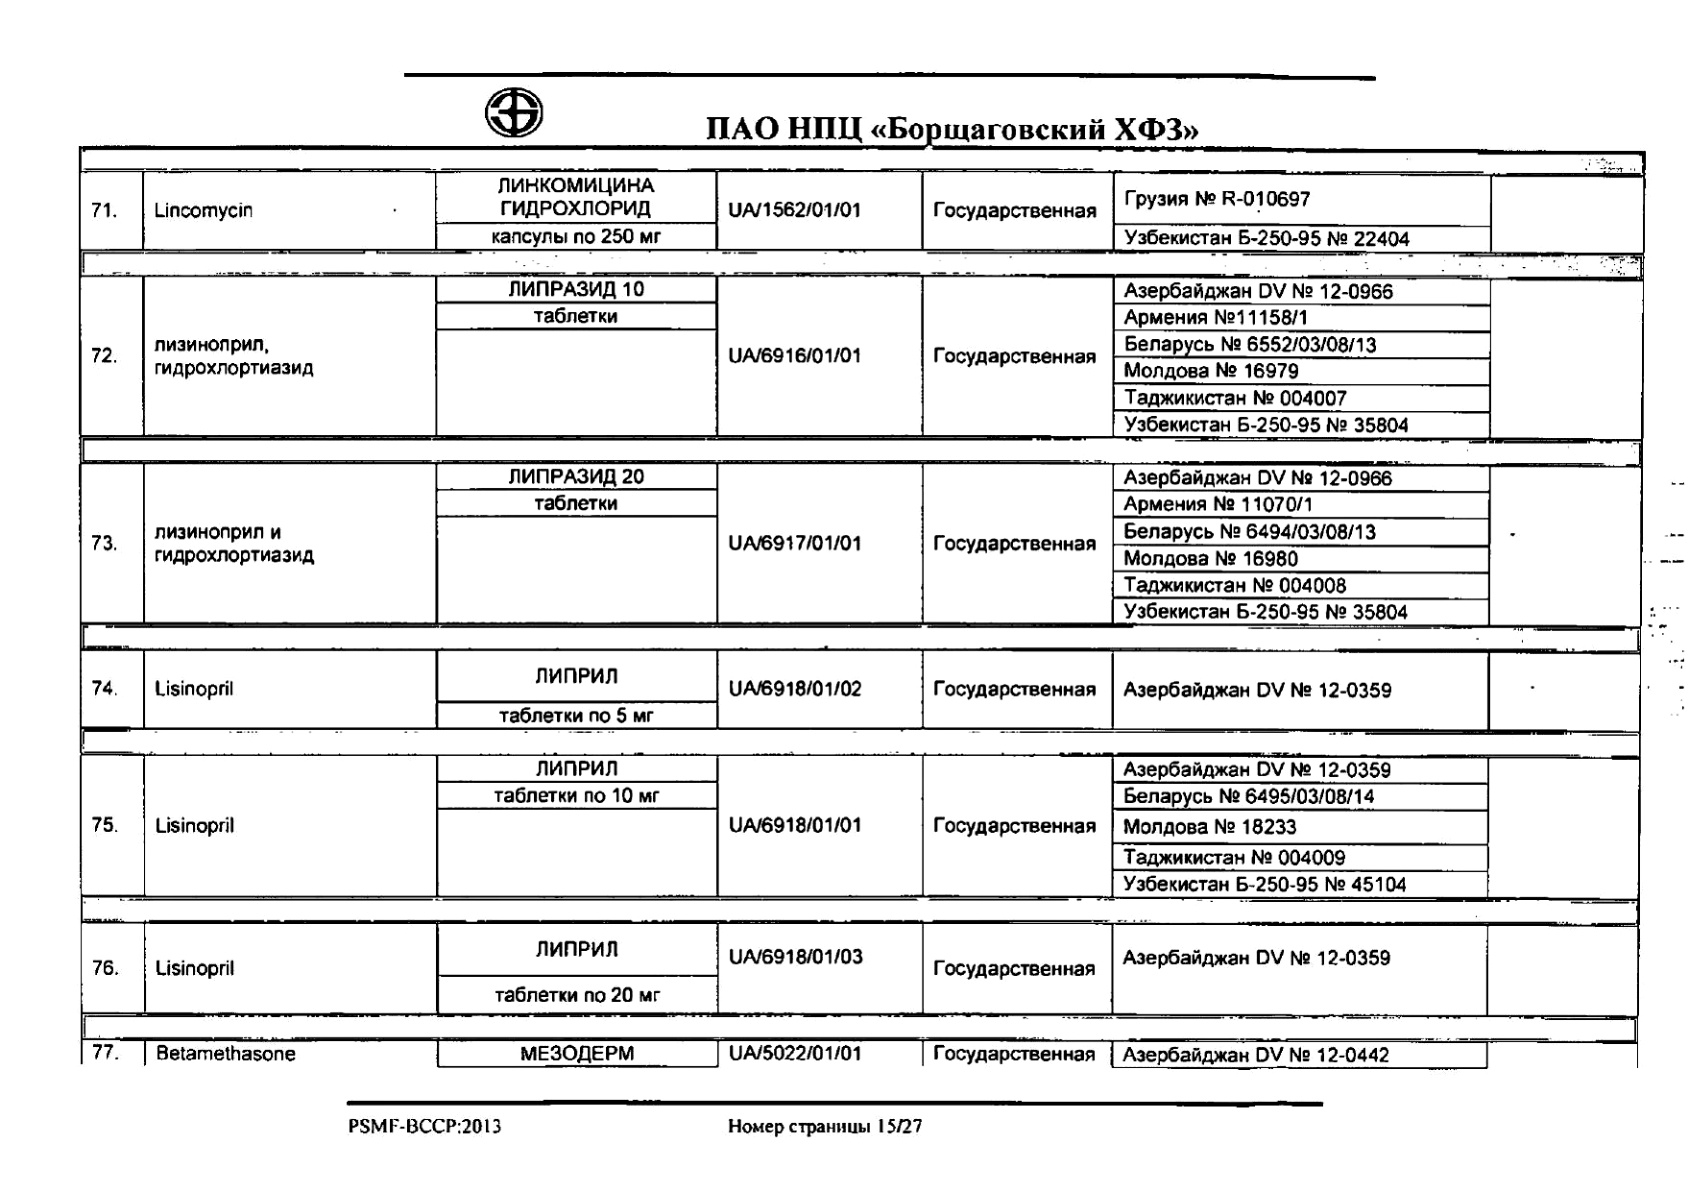merged_cells: (76, 143, 1648, 1076)
